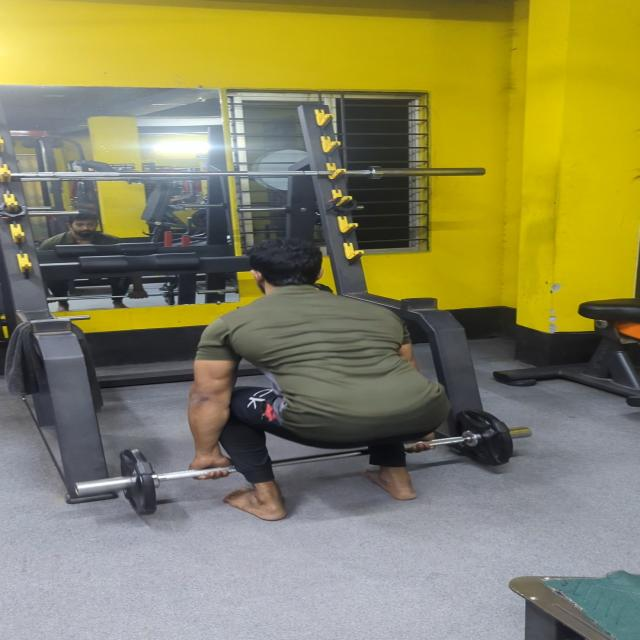Normal_Deadlifts: (109, 220, 545, 571)
